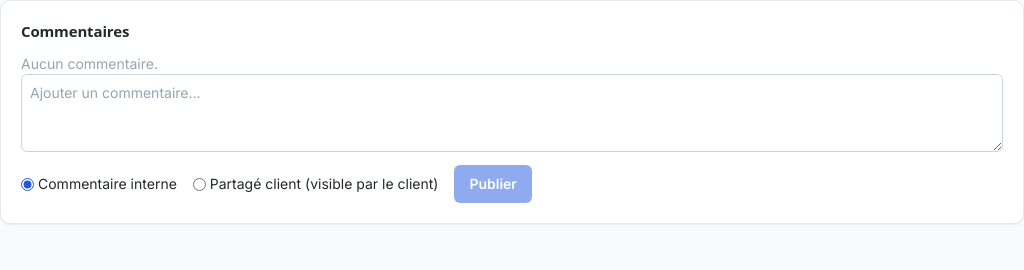
Test: choisir SHARED affiche un avertissement « visible du client »
Click the radio button labelled "Partagé client (visible par le client)".
click(199, 184)  # box [193,178,206,190]
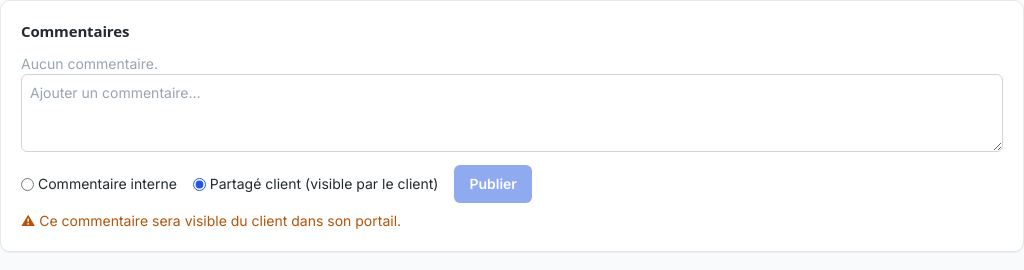
Check: the text "⚠ Ce commentaire sera visible du client dans son portail." is shown, box [21,212,401,229]
